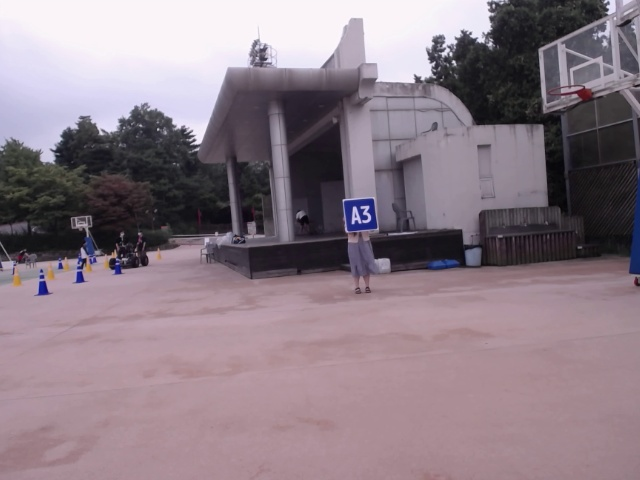delivery_a3: (343, 197, 379, 232)
